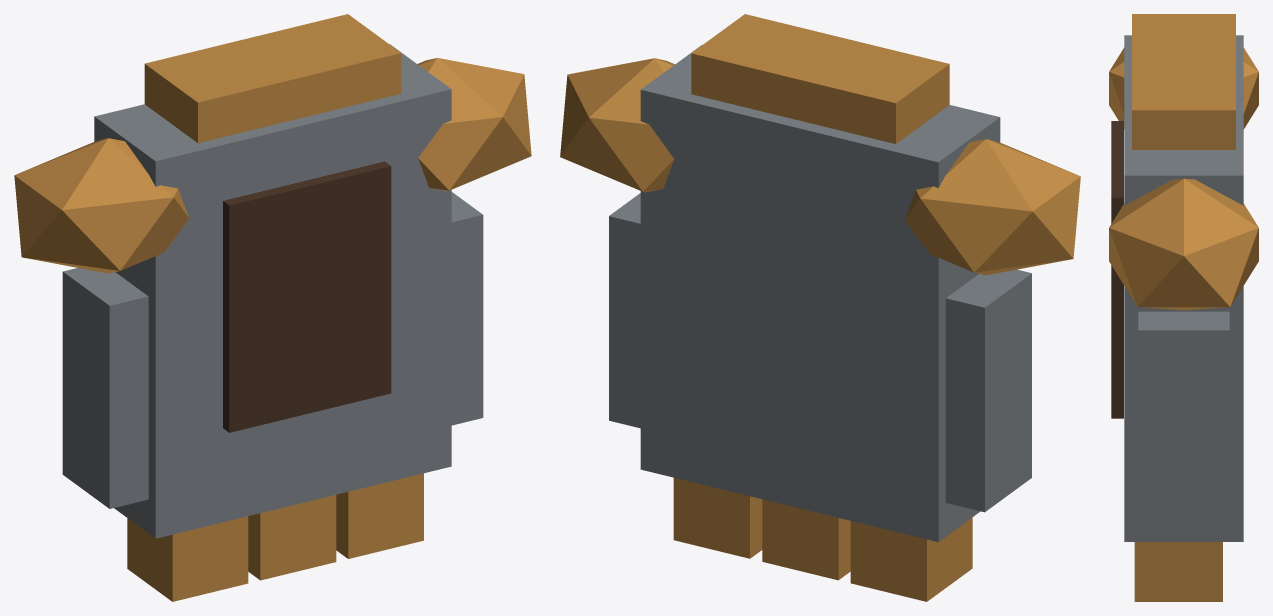
The model's file is armor.glb.
3 views of the same model, side by side, from view 1: azimuth 30°, elevation 25°; view 2: azimuth 150°, elevation 25°; view 3: azimuth 270°, elevation 25° (orthographic). The views are drawn at different scales.
Parts seen in each view (by area): view 1: Breastplate, ChestInset, Collar, SidePlate, Pauldron, Pauldron.001, WaistPlate, SidePlate.001, WaistPlate.001, WaistPlate.002; view 2: Breastplate, Collar, SidePlate, Pauldron, Pauldron.001, WaistPlate, SidePlate.001, WaistPlate.002, WaistPlate.001; view 3: SidePlate.001, Breastplate, Pauldron.001, Collar, WaistPlate.002, ChestInset, Pauldron.
Boxes of the visible parts, x1,y1,x2,y2 form: Breastplate: (94,44,451,538); ChestInset: (223,161,391,432); Collar: (144,14,401,143); SidePlate: (62,268,148,508); Pauldron: (14,138,188,273); Pauldron.001: (417,58,531,190); WaistPlate: (127,516,248,601); SidePlate.001: (451,192,483,425); WaistPlate.001: (248,495,336,580); WaistPlate.002: (336,473,423,558); Breastplate: (640,44,1000,542); Collar: (691,14,949,143); SidePlate: (945,269,1031,512); Pauldron: (905,139,1080,275); Pauldron.001: (560,58,674,192); WaistPlate: (850,517,972,601); SidePlate.001: (609,193,640,428); WaistPlate.002: (673,478,762,558); WaistPlate.001: (762,499,850,580); SidePlate.001: (1138,311,1229,527); Breastplate: (1124,35,1243,541); Pauldron.001: (1109,178,1258,310); Collar: (1132,14,1235,149); WaistPlate.002: (1134,542,1222,601); ChestInset: (1111,121,1123,418); Pauldron: (1109,47,1258,129).
Bounding box in the file's own units: 5.44 × 5.11 × 1.45.
